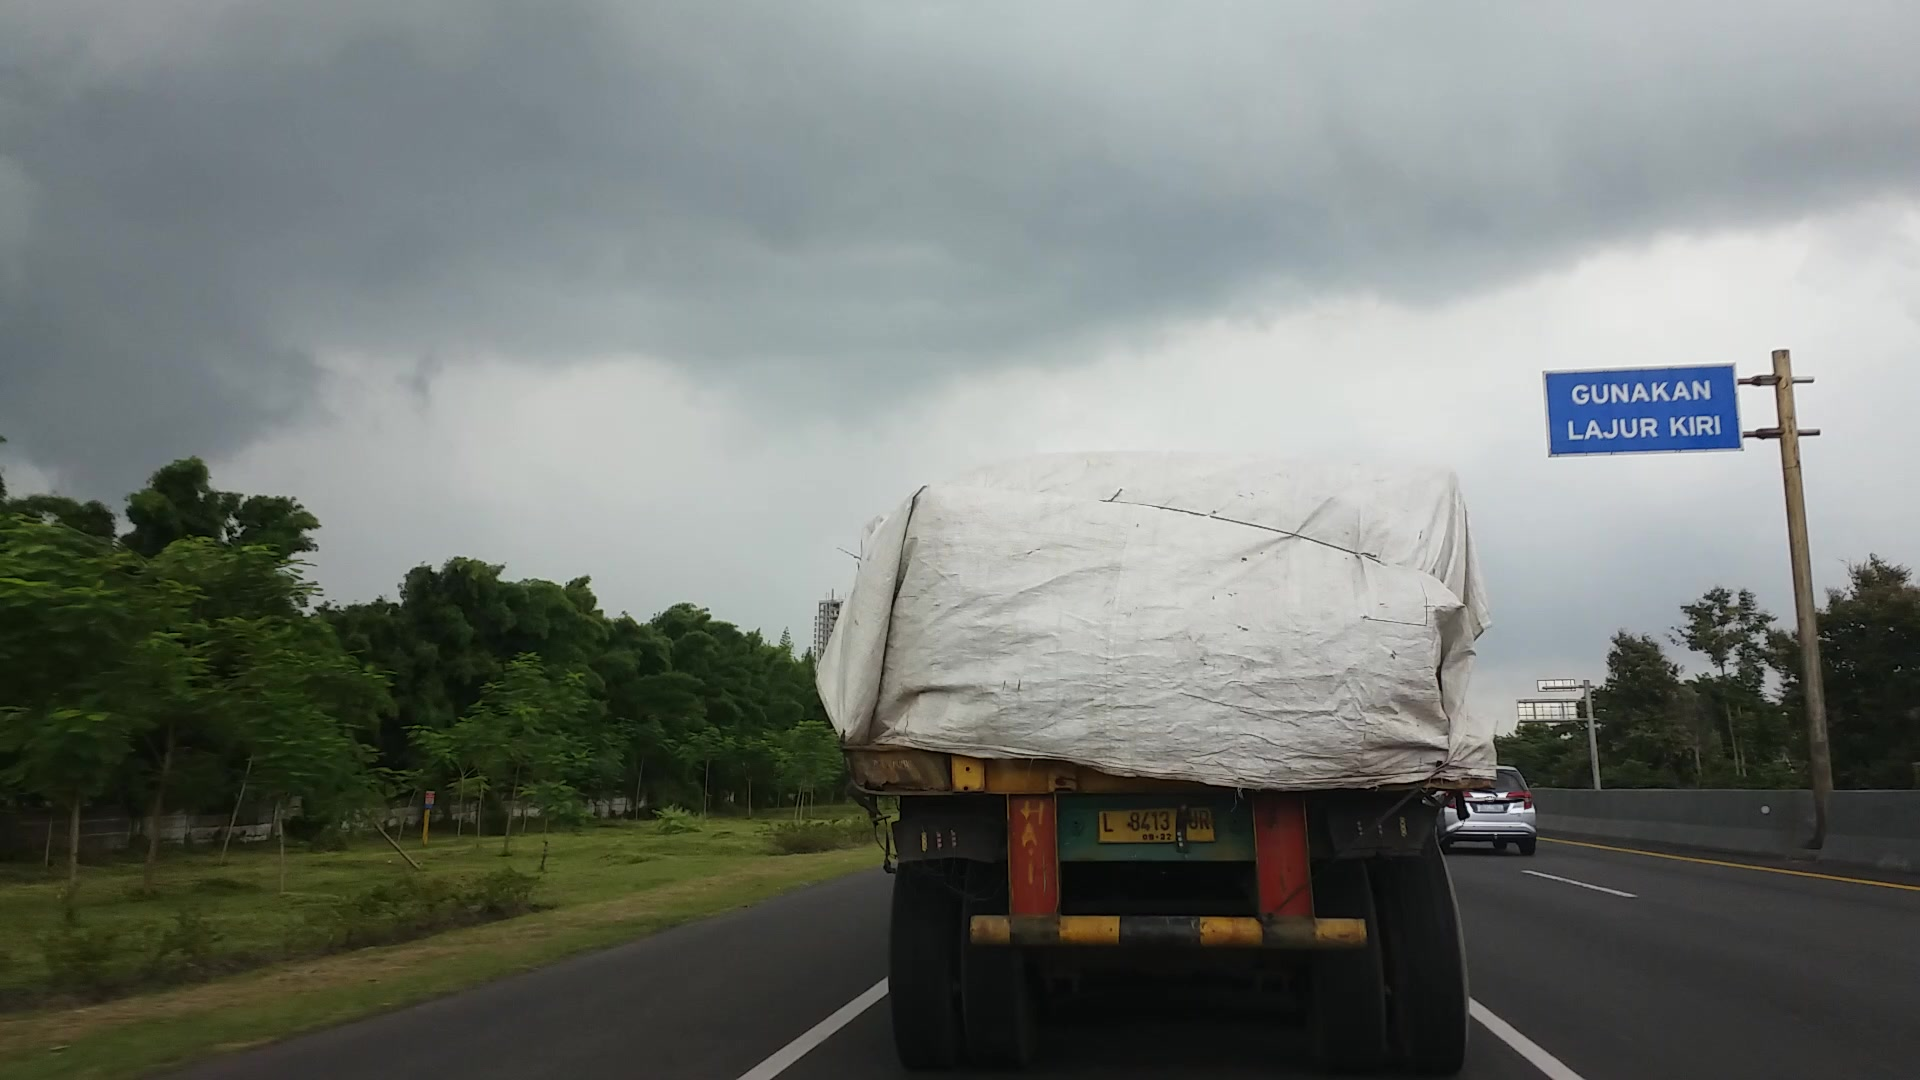plate_positive: (1097, 807, 1213, 843)
